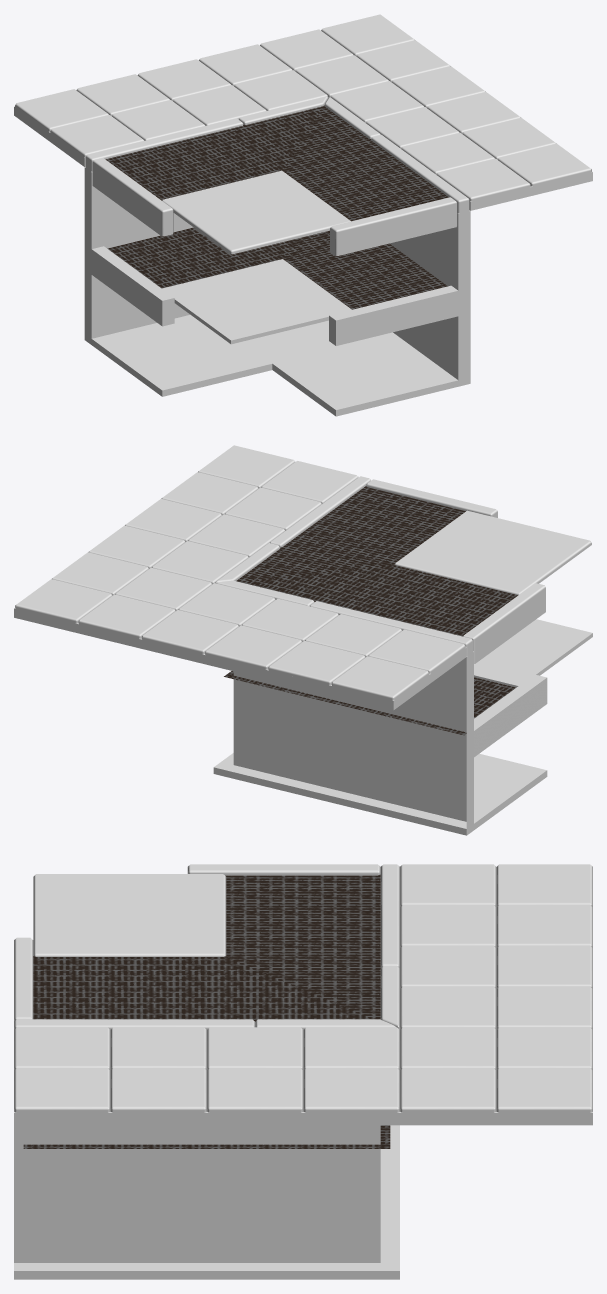
Rendered from sidewalk_corner_01.fbx.
The picture shows the model from 3 angles, top to bottom: view 1: azimuth 30°, elevation 25°; view 2: azimuth 150°, elevation 25°; view 3: azimuth 270°, elevation 25°; orthographic projection. The views are drawn at different scales.
Parts seen in each view (by area): view 1: Cube.112, Cube.111, Cube.114, Cube.113, Cube.120, Cube.119, Cube.121, Cube.117, Cube.116, Cube.136, Cube.148, Cube.146 (+23 smaller); view 2: Cube.114, Cube.111, Cube.119, Cube.112, Cube.135, Cube.120, Cube.116, Cube.136, Cube.156, Cube.137, Cube.152, Cube.154 (+22 smaller); view 3: Cube.114, Cube.111, Cube.119, Cube.112, Cube.135, Cube.137, Cube.138, Cube.141, Cube.142, Cube.145, Cube.146, Cube.150 (+21 smaller).
Boxes of the visible parts, x1,y1,x2,y2 form: Cube.112: (84, 314, 470, 416); Cube.111: (105, 105, 448, 221); Cube.114: (84, 167, 470, 380); Cube.113: (107, 227, 447, 309); Cube.120: (162, 259, 351, 344); Cube.119: (162, 170, 350, 254); Cube.121: (329, 285, 458, 345); Cube.117: (330, 197, 457, 255); Cube.116: (91, 246, 174, 326); Cube.136: (92, 158, 173, 236); Cube.148: (436, 158, 530, 201); Cube.146: (498, 143, 591, 186); Cube.114: (233, 651, 473, 828); Cube.111: (236, 486, 517, 636); Cube.119: (394, 510, 591, 595); Cube.112: (213, 753, 547, 835); Cube.135: (14, 608, 466, 710); Cube.120: (474, 619, 592, 687); Cube.116: (461, 674, 547, 757); Cube.136: (463, 583, 545, 663); Cube.156: (331, 656, 429, 700); Cube.137: (15, 579, 112, 623); Cube.152: (205, 625, 302, 669); Cube.154: (268, 641, 365, 685); Cube.114: (14, 1125, 380, 1262); Cube.111: (33, 874, 380, 1021); Cube.119: (33, 874, 226, 956); Cube.112: (14, 1125, 399, 1279); Cube.135: (14, 1112, 592, 1125); Cube.137: (496, 1068, 592, 1112); Cube.138: (400, 1068, 496, 1112); Cube.141: (303, 1068, 399, 1112); Cube.142: (207, 1068, 303, 1112); Cube.145: (110, 1068, 206, 1112); Cube.146: (14, 1068, 110, 1112); Cube.150: (496, 986, 592, 1029).
Size of the model in its own units: 3000 by 1450 by 3000.
